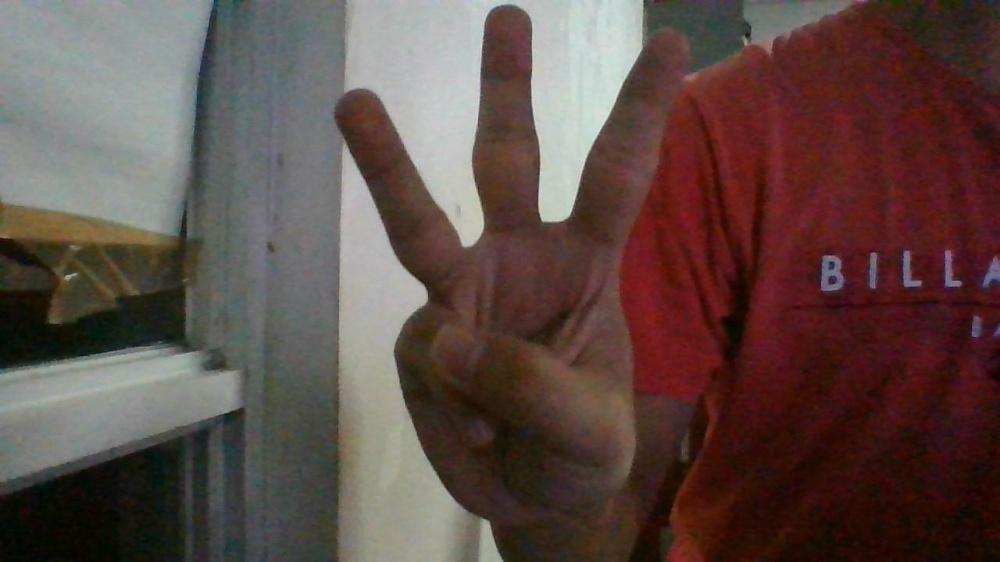w: (332, 2, 692, 525)
